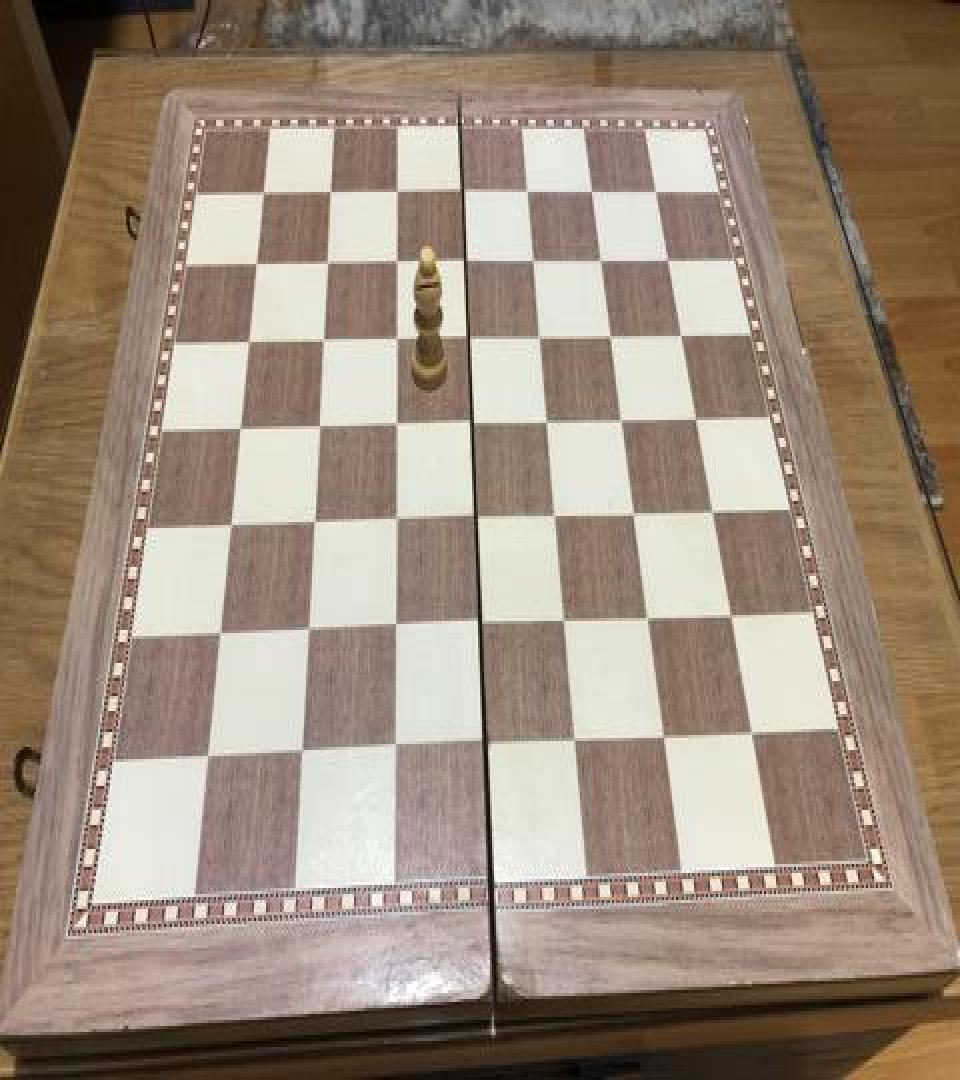xcorner: (383, 610, 407, 647), (474, 727, 498, 764), (515, 174, 539, 210), (450, 174, 474, 210), (384, 176, 408, 212), (318, 176, 342, 212), (251, 177, 275, 213), (656, 240, 680, 276), (589, 242, 613, 278), (521, 243, 545, 279), (453, 244, 477, 280), (384, 244, 408, 280), (315, 246, 339, 282), (244, 248, 268, 284), (670, 316, 694, 352), (600, 318, 624, 354), (528, 320, 552, 356), (456, 321, 480, 357), (384, 322, 408, 358), (311, 324, 335, 360), (237, 326, 261, 362), (685, 399, 709, 435), (611, 402, 635, 438), (536, 404, 560, 440), (460, 405, 484, 441), (383, 408, 407, 444), (306, 410, 330, 446), (228, 411, 252, 447), (702, 492, 726, 528), (624, 495, 648, 531), (544, 498, 568, 534), (464, 501, 488, 537), (383, 502, 407, 538), (301, 506, 325, 542), (219, 508, 243, 544), (721, 597, 745, 633), (638, 600, 662, 636), (554, 603, 578, 639), (469, 608, 493, 644), (296, 614, 320, 650), (208, 618, 232, 654), (742, 716, 766, 752), (654, 720, 678, 756), (564, 723, 588, 759), (382, 732, 406, 768), (289, 736, 313, 772), (196, 741, 220, 777), (644, 173, 668, 208), (580, 173, 604, 208)
